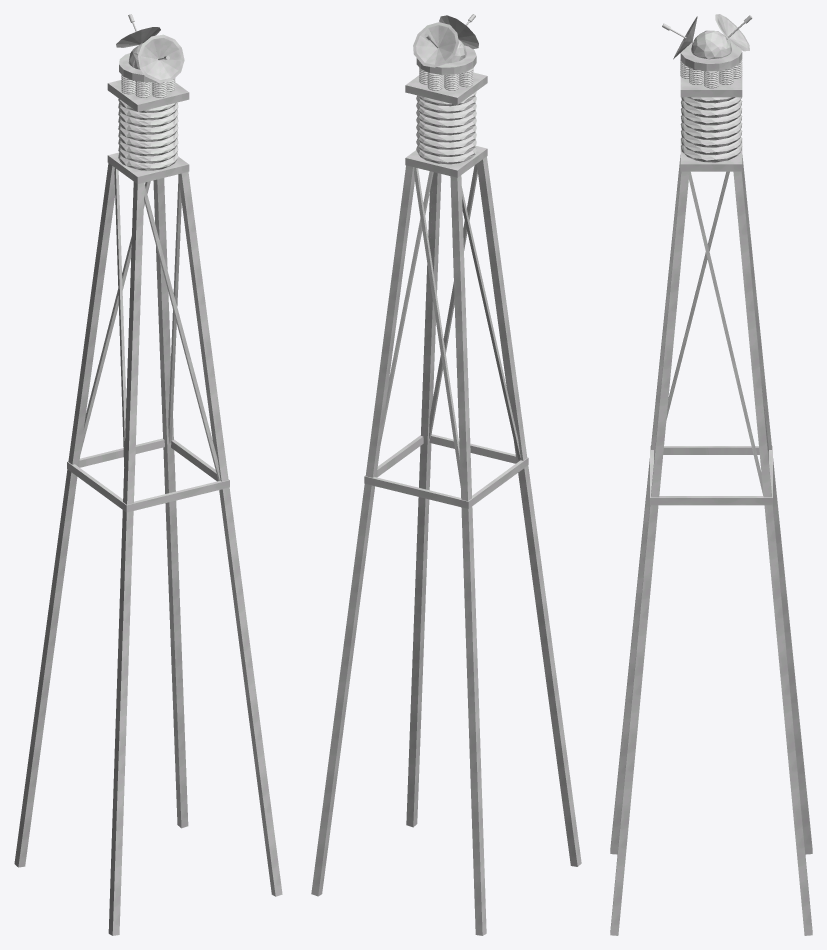
The model's file is CommTower.fbx.
The picture shows the model from 3 angles, left to right: view 1: azimuth 30°, elevation 25°; view 2: azimuth 150°, elevation 25°; view 3: azimuth 270°, elevation 25°; orthographic projection. The views are drawn at different scales.
Visible parts, largest first — view 1: node_id16, node_id13; view 2: node_id16, node_id13; view 3: node_id16, node_id13.
Boxes of the visible parts, x1,y1,x2,y2 form: node_id16: (14,80,282,935); node_id13: (116,14,184,83); node_id16: (311,72,581,935); node_id13: (413,14,478,74); node_id16: (610,64,812,935); node_id13: (662,14,752,71).
Size of the model in its own units: 0.1068 by 0.512 by 0.1069.
11 materials, 10 textured.
